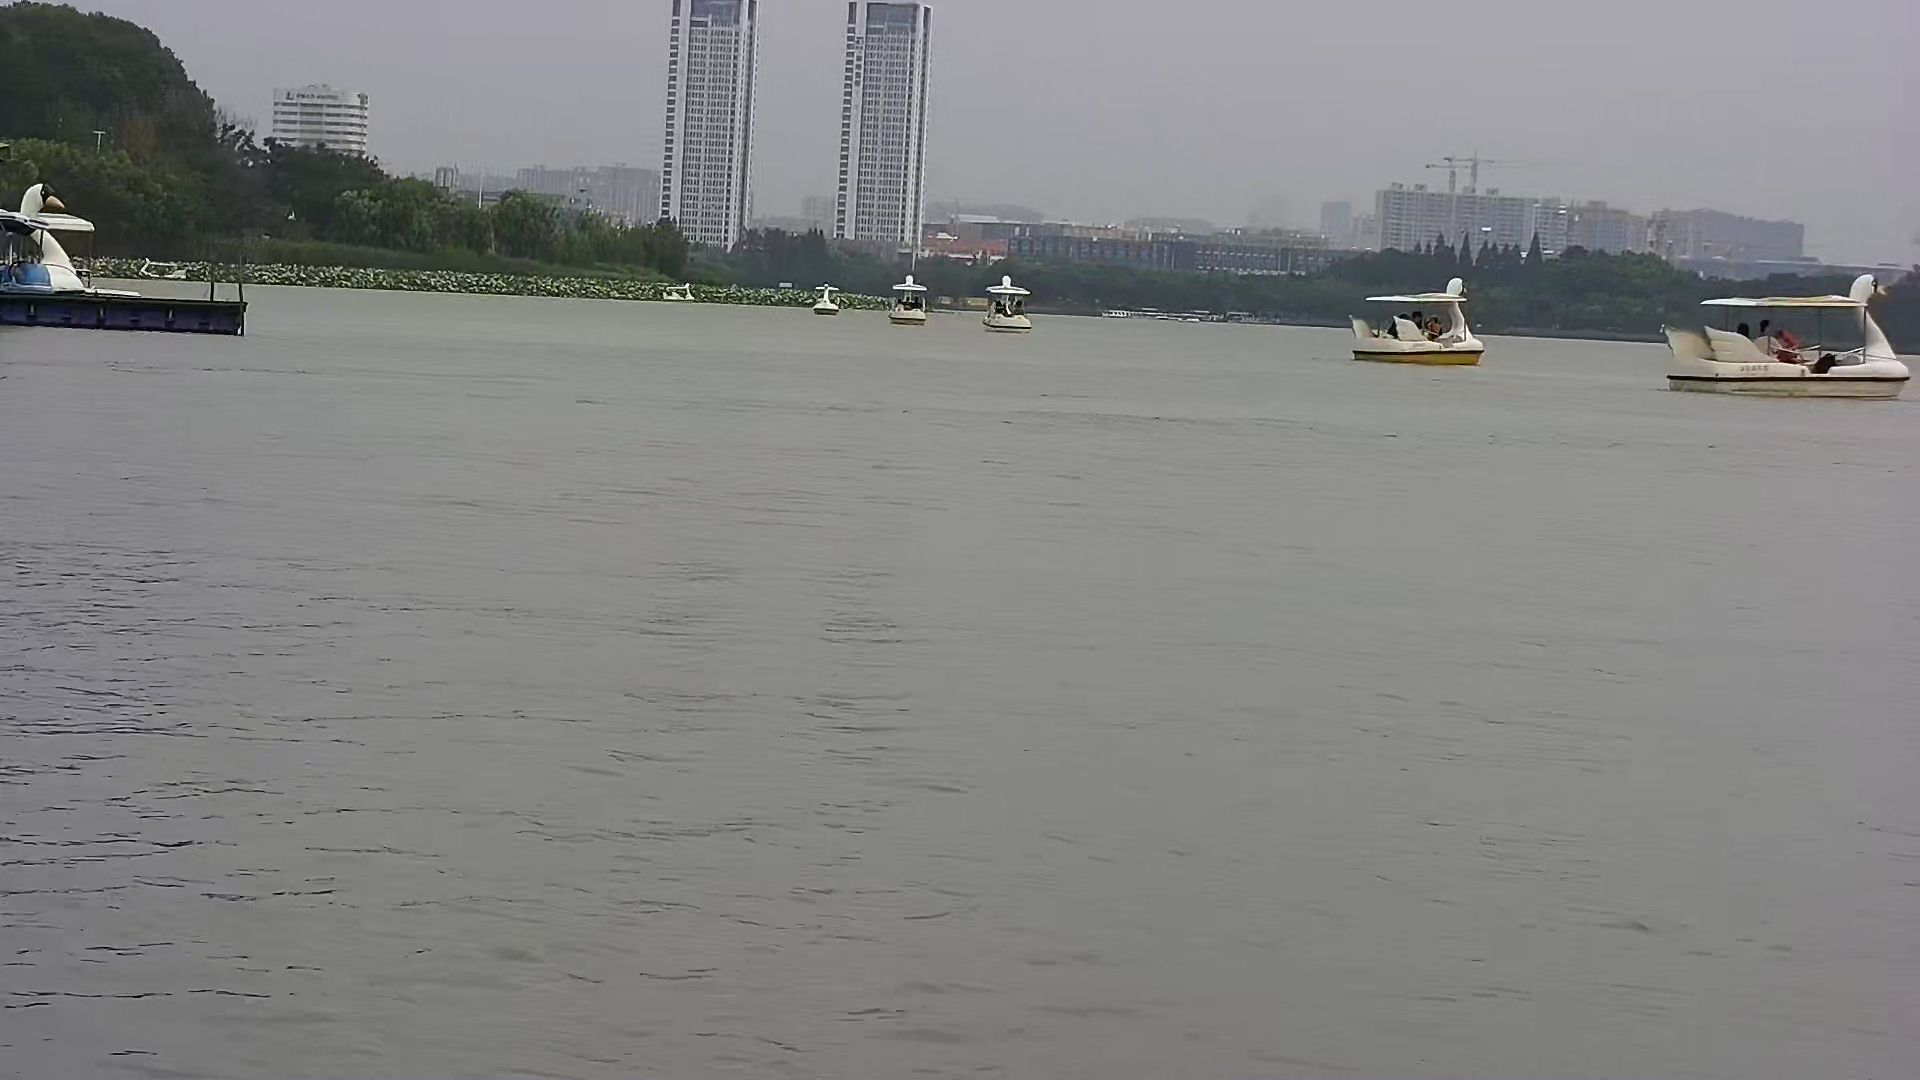boat: (1673, 272, 1909, 406), (1342, 272, 1489, 368), (973, 270, 1033, 345), (887, 278, 931, 331), (802, 280, 844, 315)
